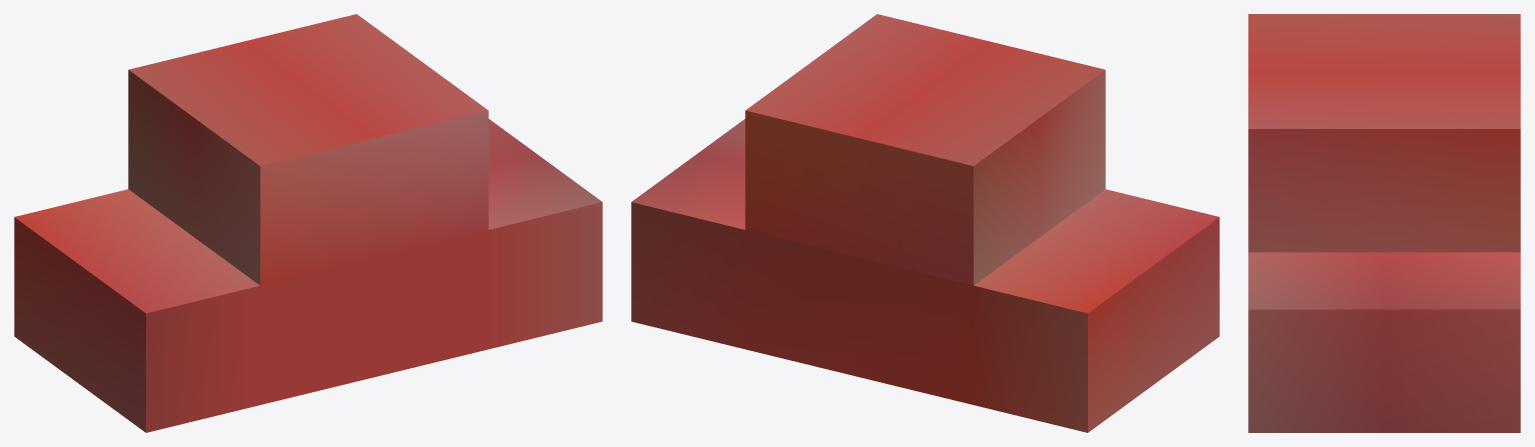
File: ToyCar_02.obj
3 renders of one model, left to right at view 1: azimuth 30°, elevation 25°; view 2: azimuth 150°, elevation 25°; view 3: azimuth 270°, elevation 25°, orthographic. The views are drawn at different scales.
Parts seen in each view (by area): view 1: ToyCar_02; view 2: ToyCar_02; view 3: ToyCar_02.
Boxes of the visible parts, left/top/right/bottom form: ToyCar_02: left=14, top=14, right=602, bottom=432; ToyCar_02: left=631, top=14, right=1219, bottom=432; ToyCar_02: left=1248, top=14, right=1520, bottom=432.
Size of the model in its own units: 0.2 by 0.1 by 0.1.
